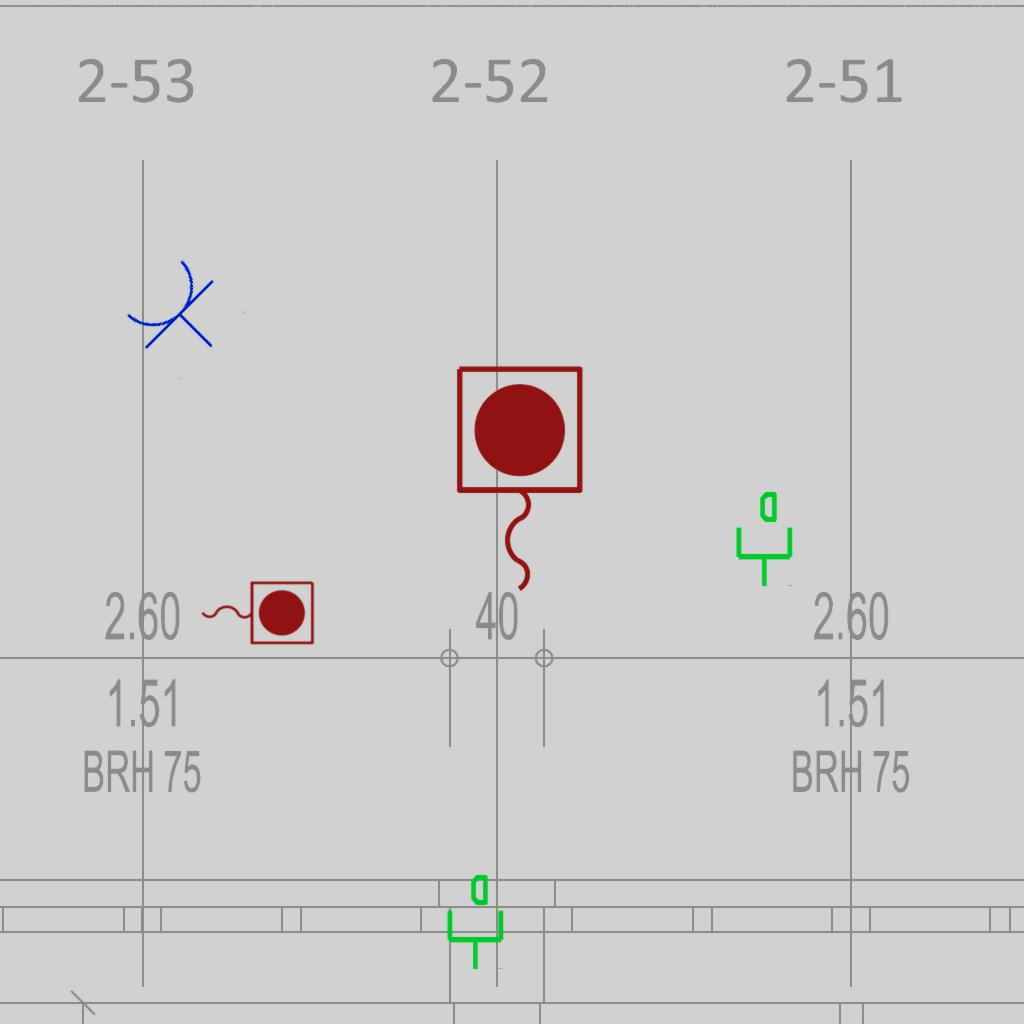Datenanschluss_einfach: (439, 872, 508, 972), (728, 489, 797, 589)
Schukosteckdose_einfach: (115, 249, 249, 382)
Zugtaster: (446, 358, 590, 602), (196, 576, 318, 648)
